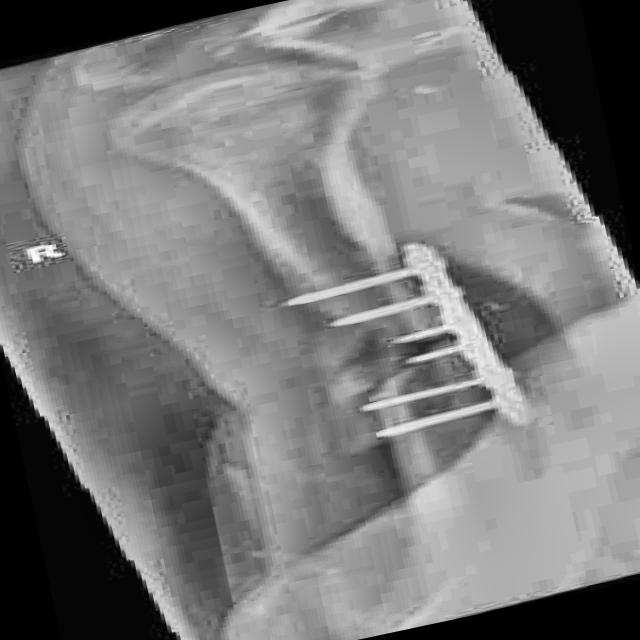humerus: (267, 315, 468, 434)
